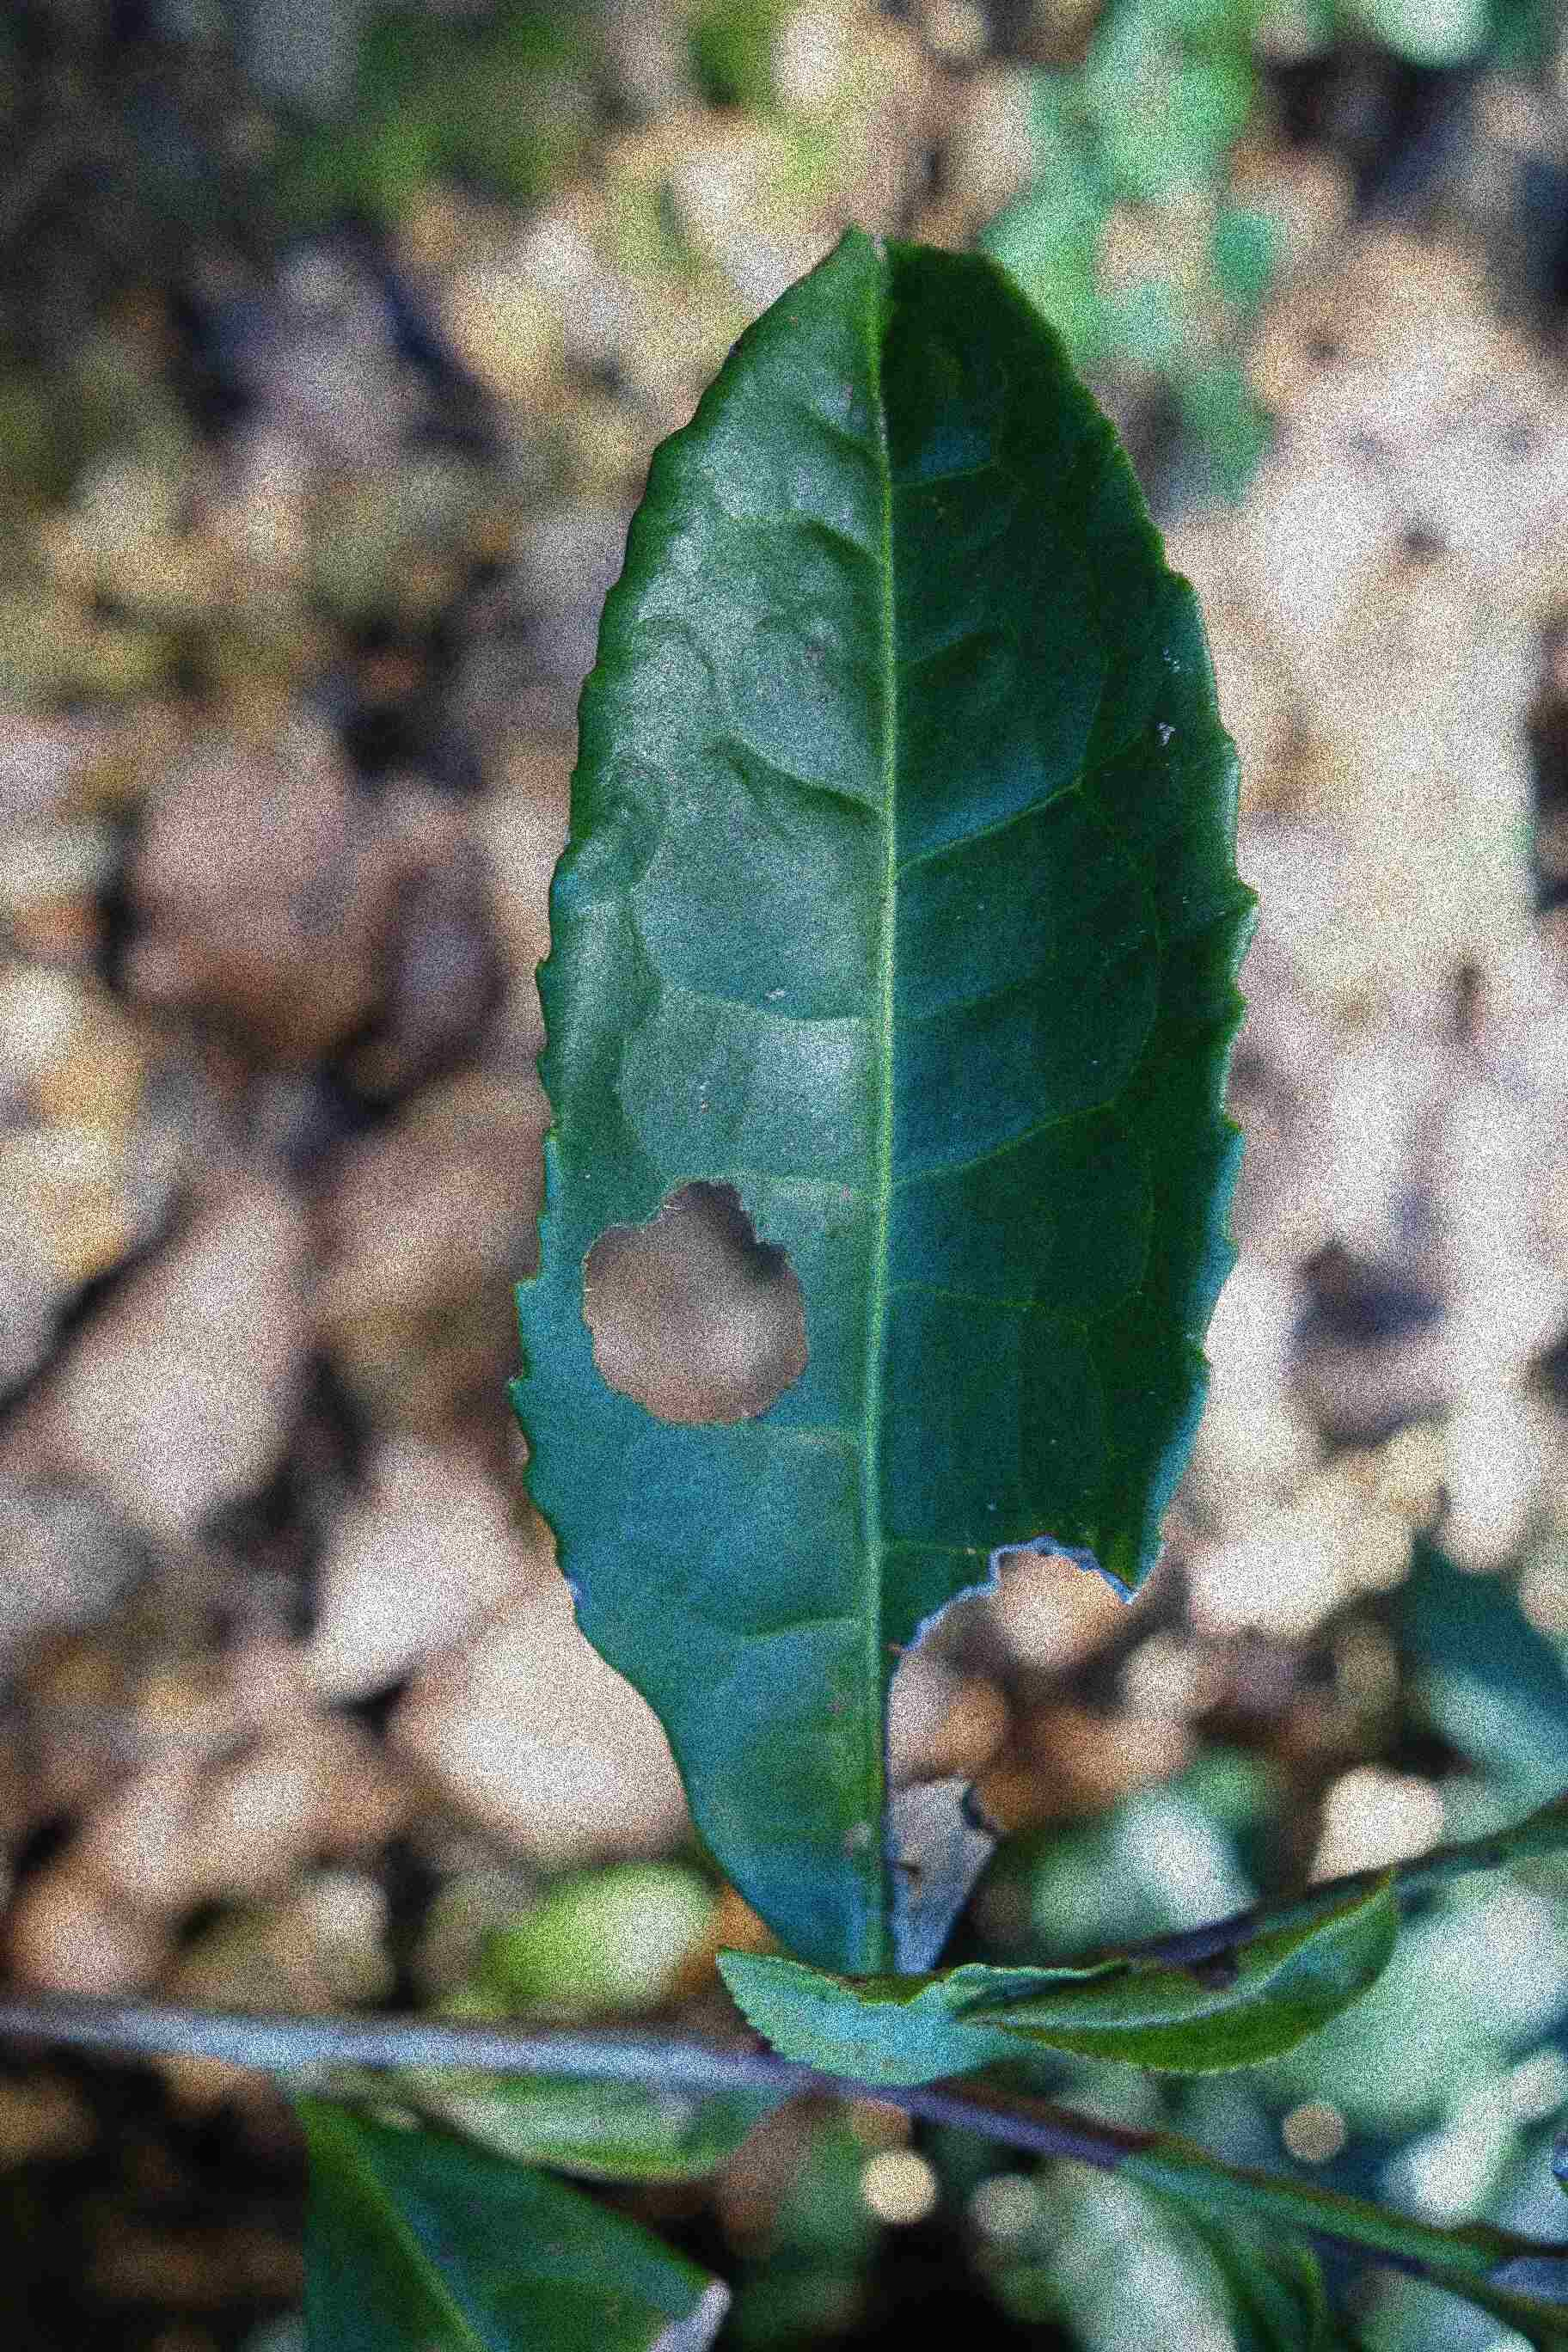chihuo_high: (509, 220, 1265, 1969)
